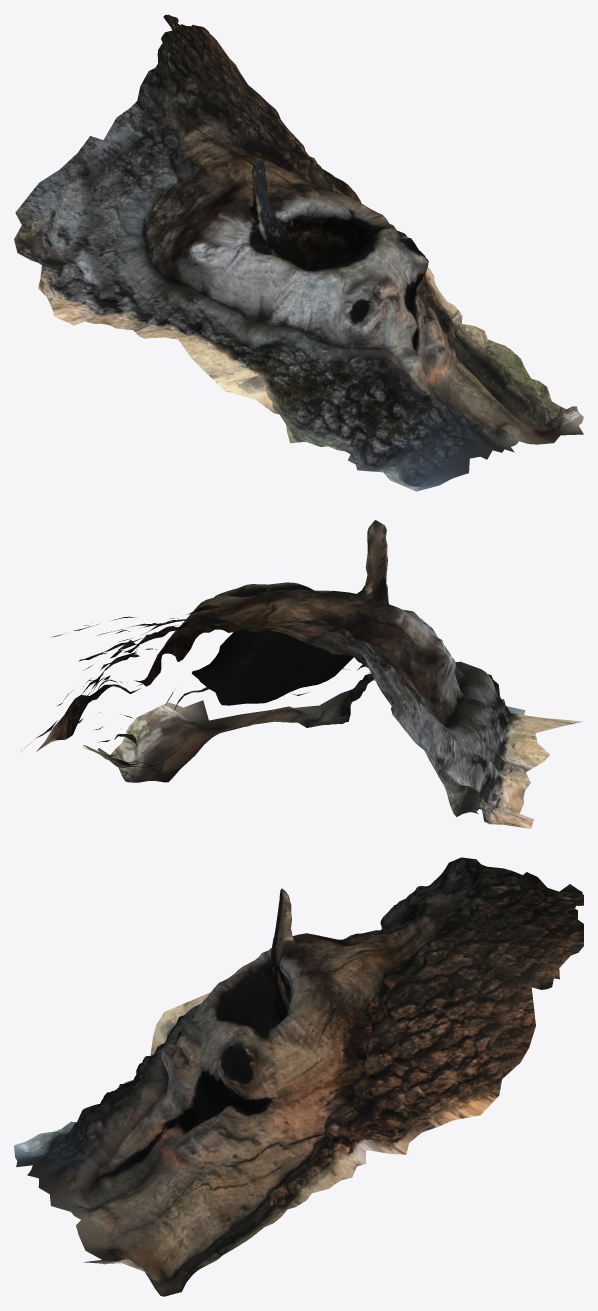
The model's file is model2_prev.glb.
3 renders of one model, top to bottom at view 1: azimuth 30°, elevation 25°; view 2: azimuth 150°, elevation 25°; view 3: azimuth 270°, elevation 25°, orthographic. The views are drawn at different scales.
Size of the model in its own units: 5.97 by 4.43 by 7.15.
Materials: 1 (1 with a texture image).
